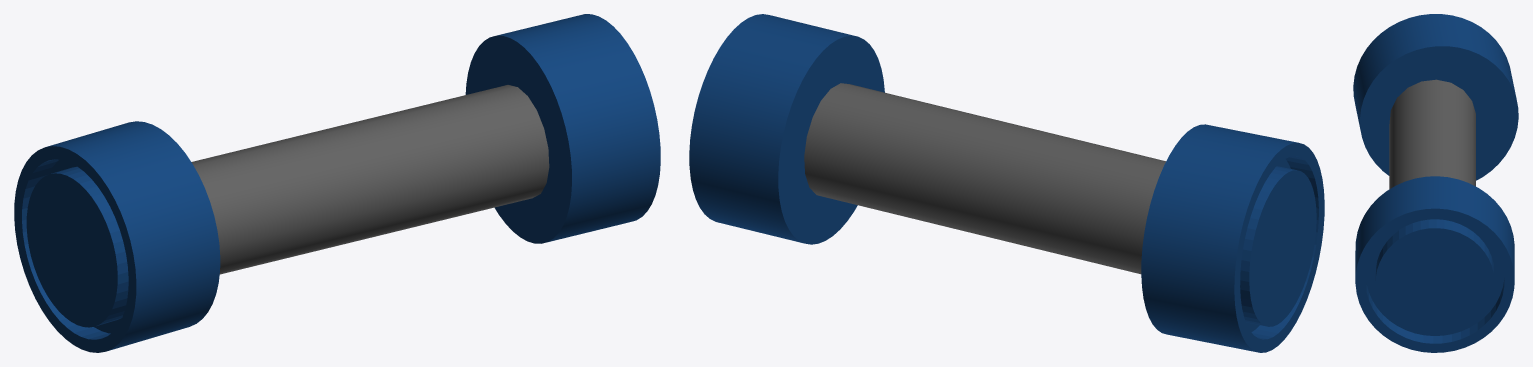
The model's file is Telescope - Suport rotativ.FBX.
The picture shows the model from 3 angles, left to right: view 1: azimuth 30°, elevation 25°; view 2: azimuth 150°, elevation 25°; view 3: azimuth 270°, elevation 25°; orthographic projection. The views are drawn at different scales.
Parts seen in each view (by area): view 1: Cylinder004; view 2: Cylinder004; view 3: Cylinder004.
Part boxes in pixels (x1,y1,x2,y2): Cylinder004: [14, 14, 660, 352]; Cylinder004: [689, 14, 1324, 352]; Cylinder004: [1353, 14, 1518, 352].
Size of the model in its own units: 31.23 by 10.55 by 10.95.
